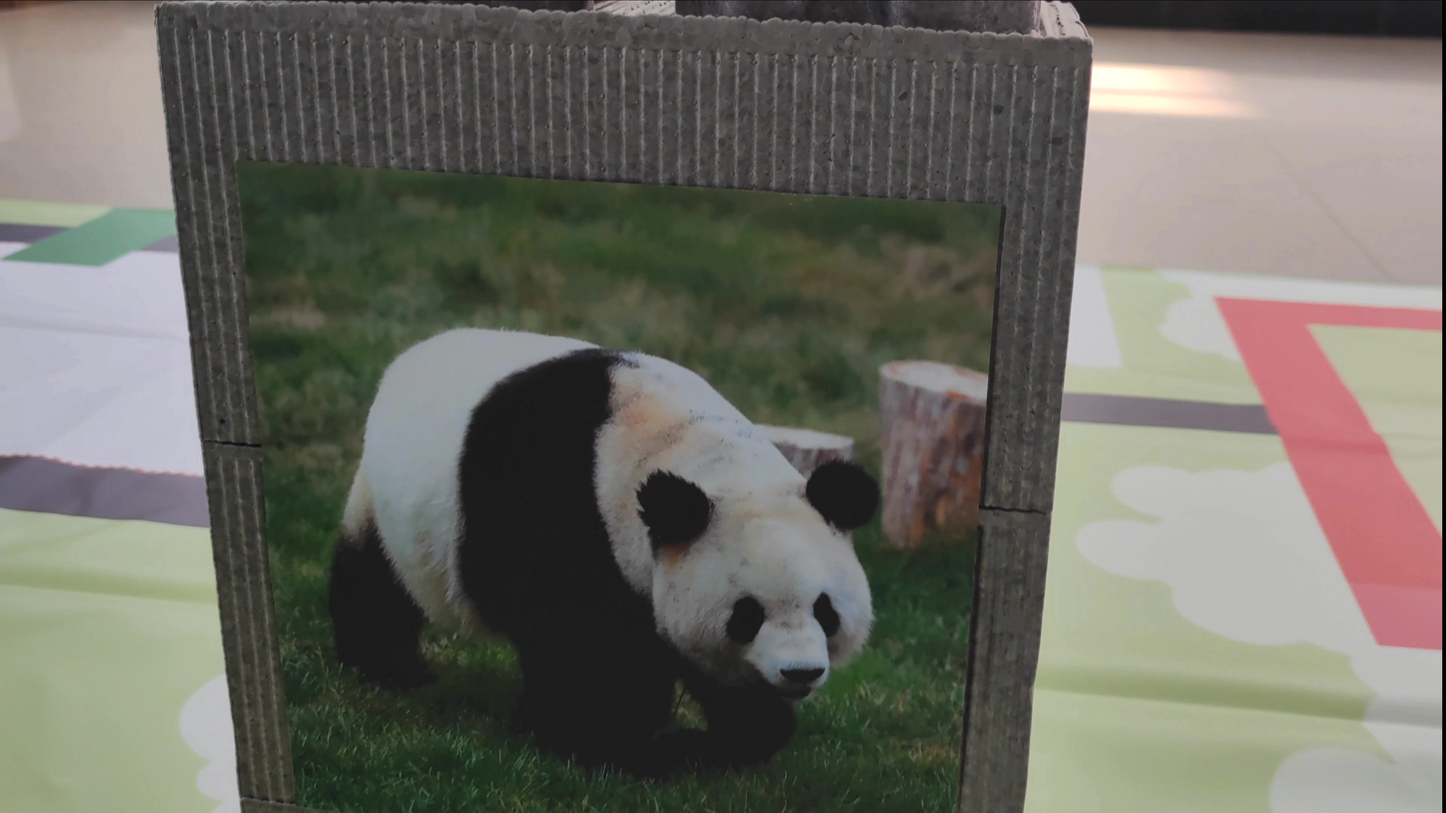panda: (258, 244, 898, 768)
